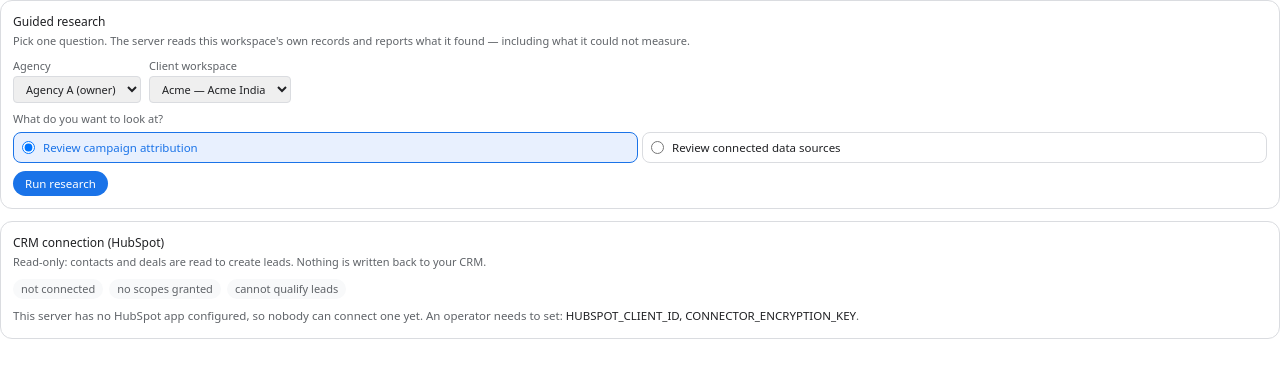
Test: guided research › refuses a malformed success body instead of rendering a broken report
Check: the text "Review campaign attribution" is shown, box [13,132,638,163]
Step 1. Click the button "Run research" → (60, 183), box [13,171,108,196]
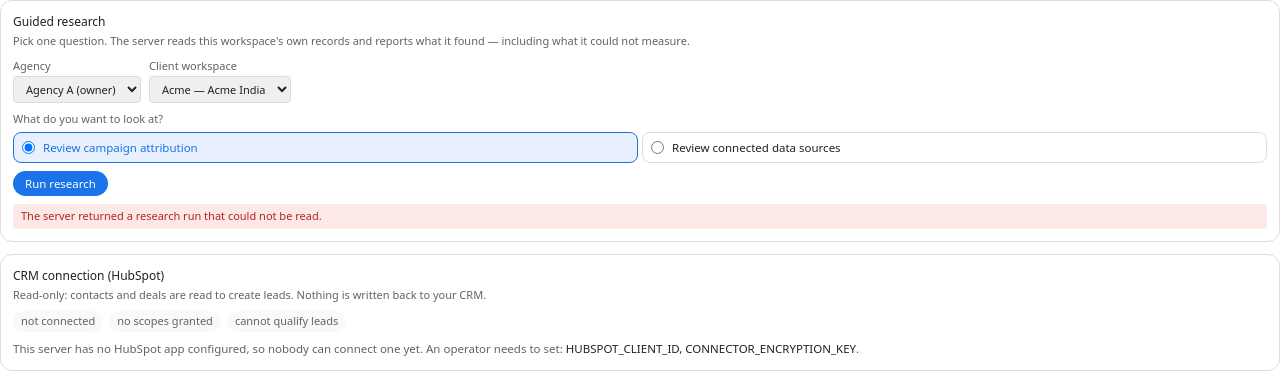
Check: the text "The server returned a research run that could not be read." is shown, box [13,204,1267,228]
